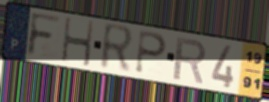4: (209, 43, 236, 89)
F: (25, 11, 63, 59)
H: (60, 16, 95, 69)
P: (133, 29, 169, 76)
R: (98, 21, 137, 76), (171, 35, 208, 86)
